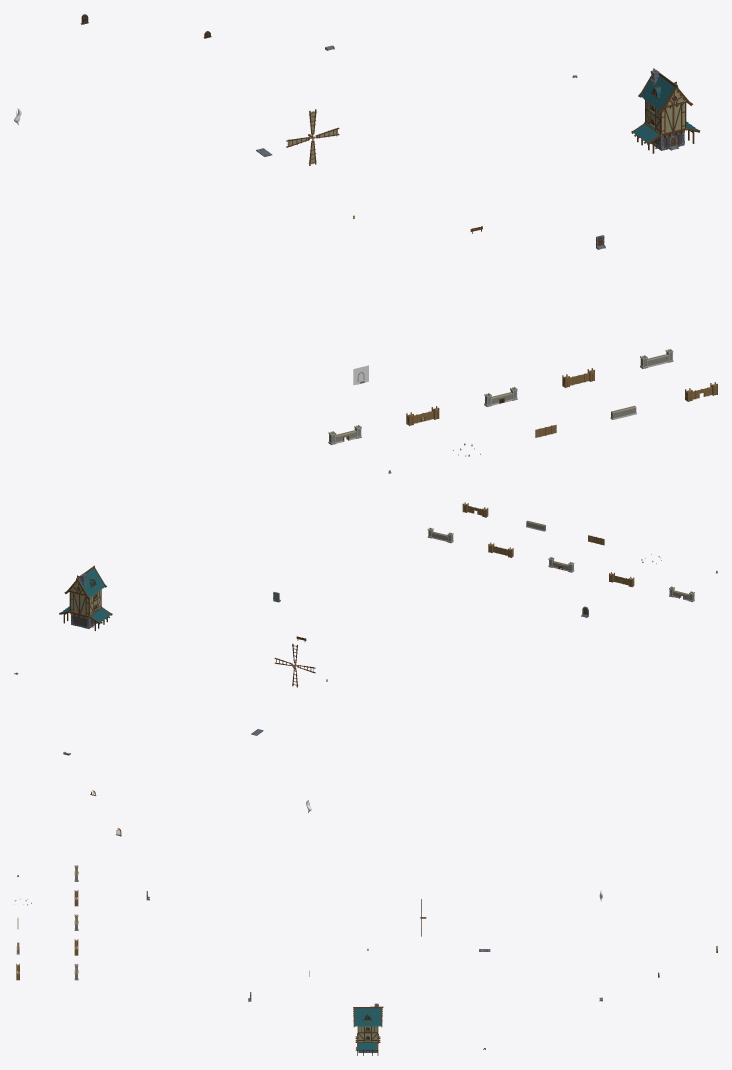
The model's file is brick_decorations.glb.
The picture shows the model from 3 angles, top to bottom: view 1: azimuth 30°, elevation 25°; view 2: azimuth 150°, elevation 25°; view 3: azimuth 270°, elevation 25°; orthographic projection. The views are drawn at different scales.
Visible parts, largest first — view 1: Mill.004, Mill.001, Mill.009; view 2: Mill.004, Mill.001; view 3: Mill.001, Mill.004.
Part boxes in pixels (x1=…): Mill.004: x1=631, y1=68, x2=699, y2=153; Mill.001: x1=633, y1=75, x2=698, y2=142; Mill.009: x1=646, y1=90, x2=684, y2=133; Mill.004: x1=59, y1=565, x2=112, y2=630; Mill.001: x1=61, y1=568, x2=111, y2=622; Mill.001: x1=354, y1=1008, x2=381, y2=1050; Mill.004: x1=353, y1=1006, x2=383, y2=1055.
Bounding box in the file's own units: 37.68 × 4.92 × 60.36.
